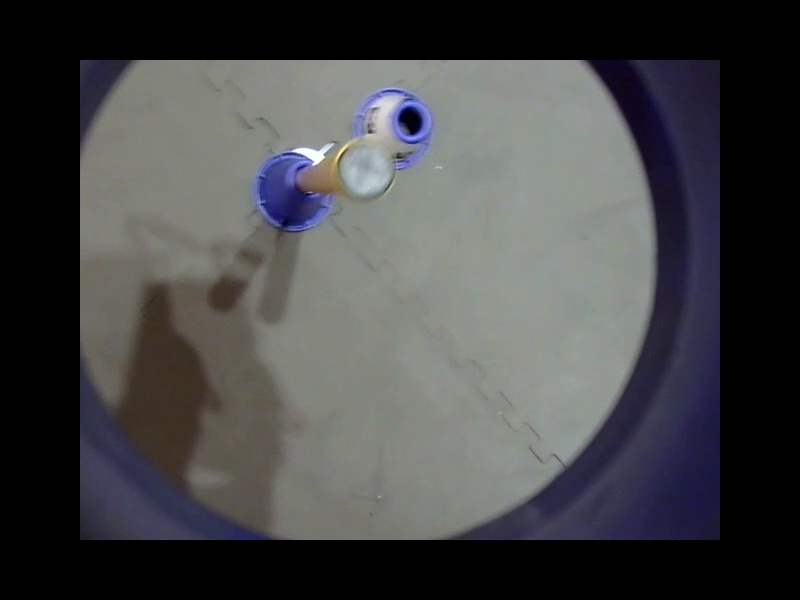tip: (150, 62, 244, 160)
